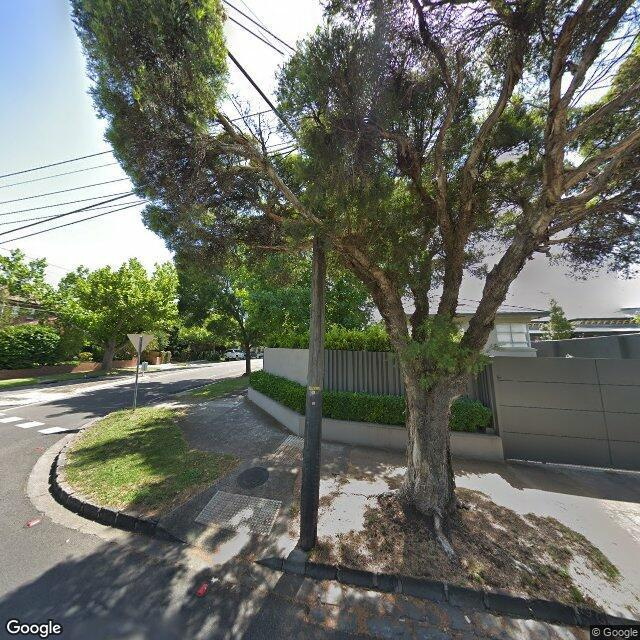timber-pole: (298, 205, 326, 550)
